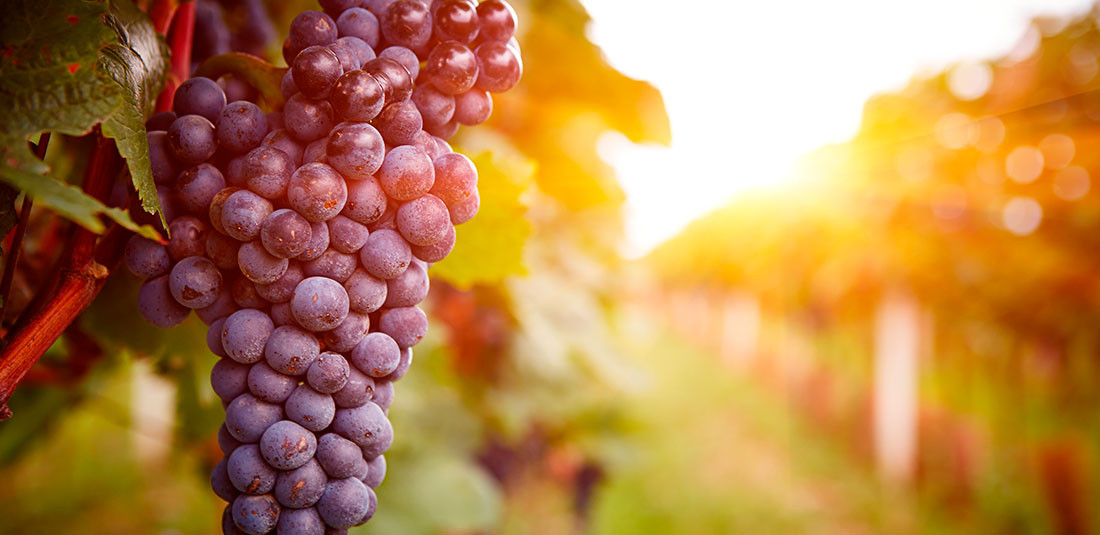Black grapes: (120, 21, 491, 529)
